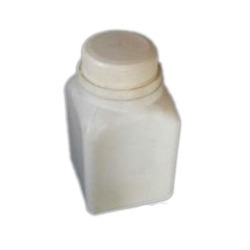Rec_Plastic: (60, 26, 183, 212)
